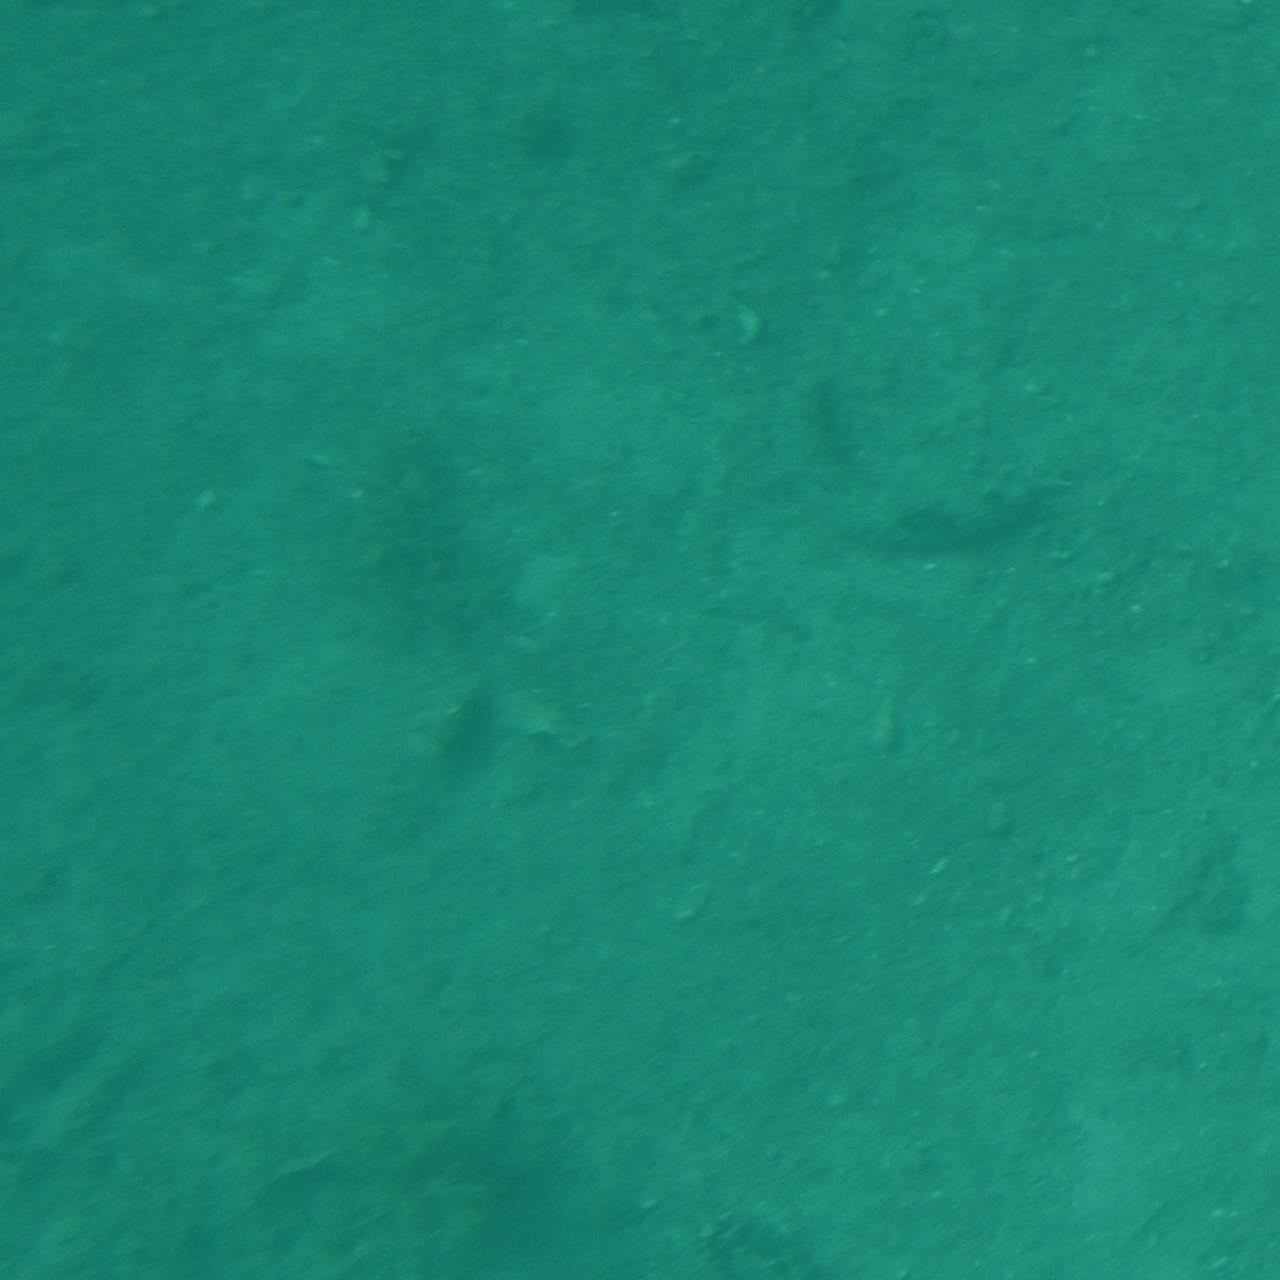Holothuria tubulosa: (758, 376, 1065, 556), (443, 0, 607, 166), (693, 1183, 952, 1280), (253, 1227, 484, 1280)
